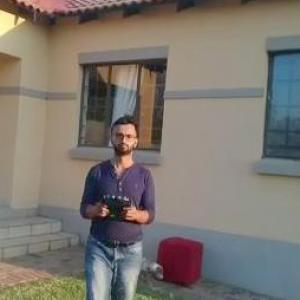follow: (73, 105, 163, 299)
